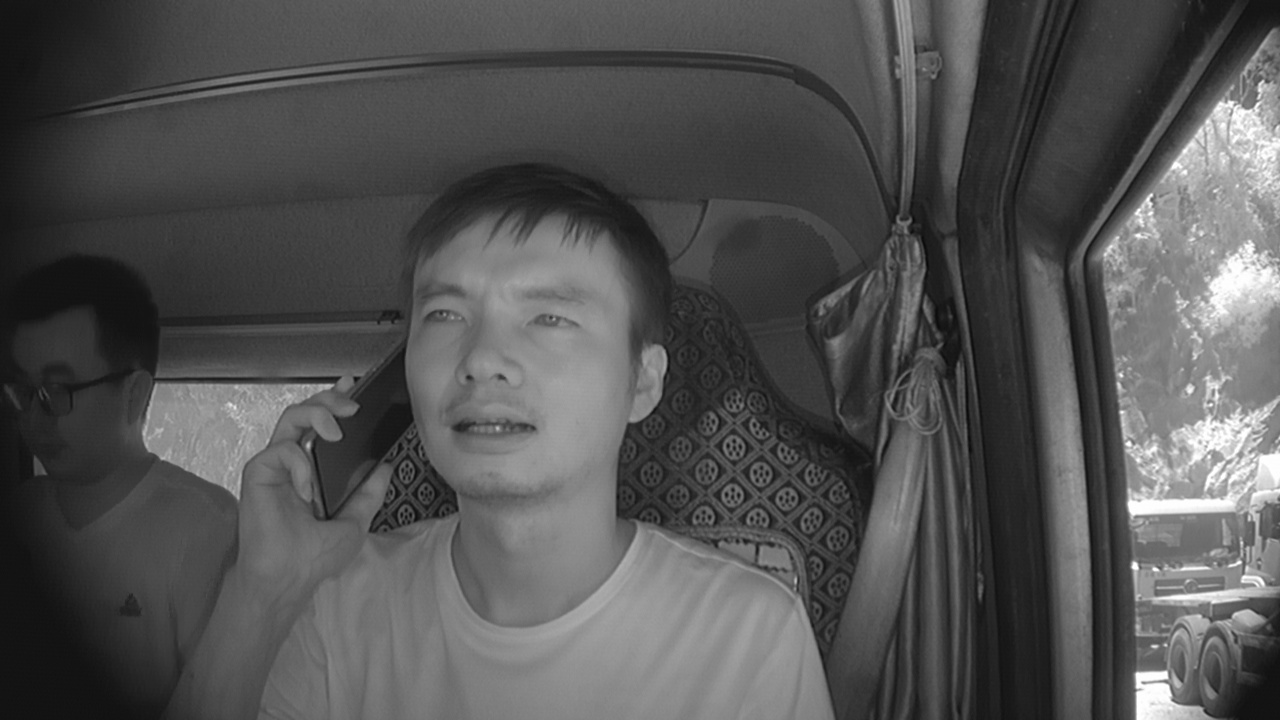hand: (236, 370, 387, 577)
